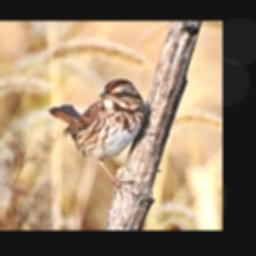Sparrow: (45, 77, 148, 198)
